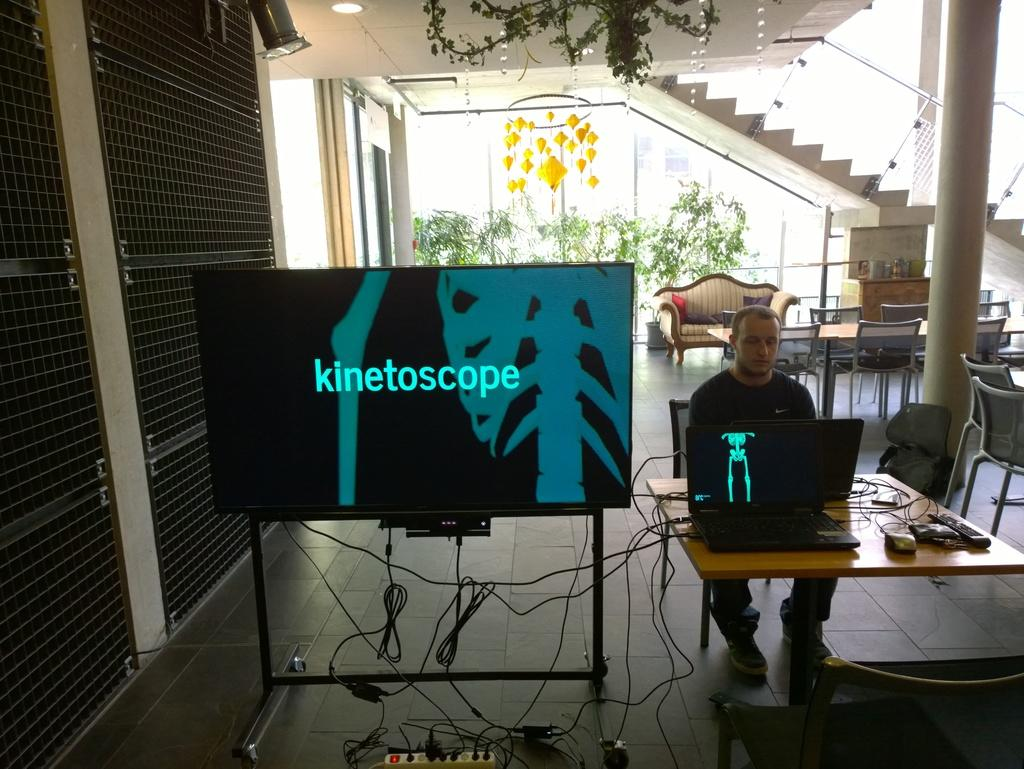Computer-monitor: (216, 273, 638, 522), (690, 425, 874, 517)
